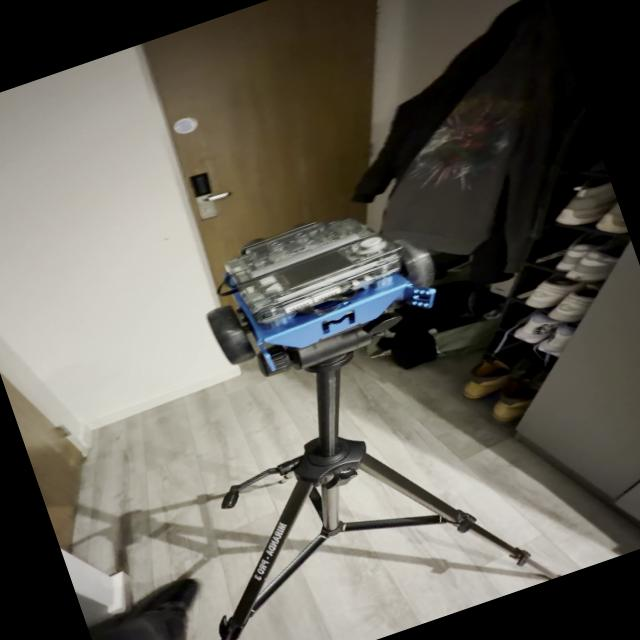mbot-detection: (180, 185, 457, 398)
